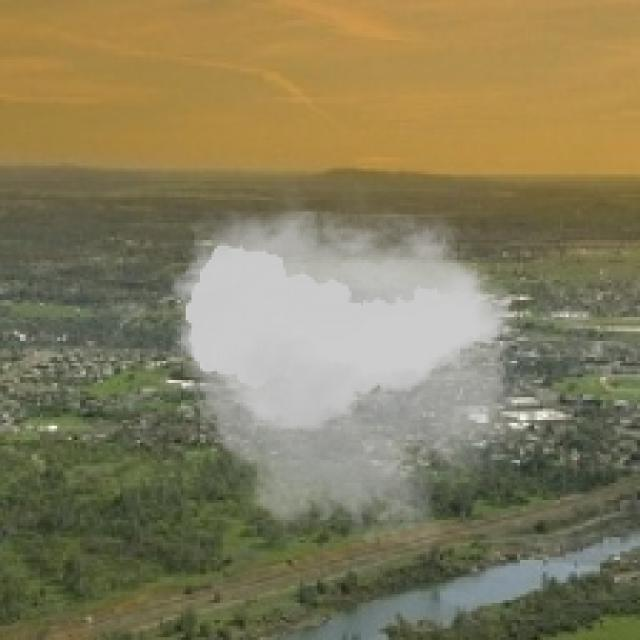smoke: (160, 180, 534, 569)
